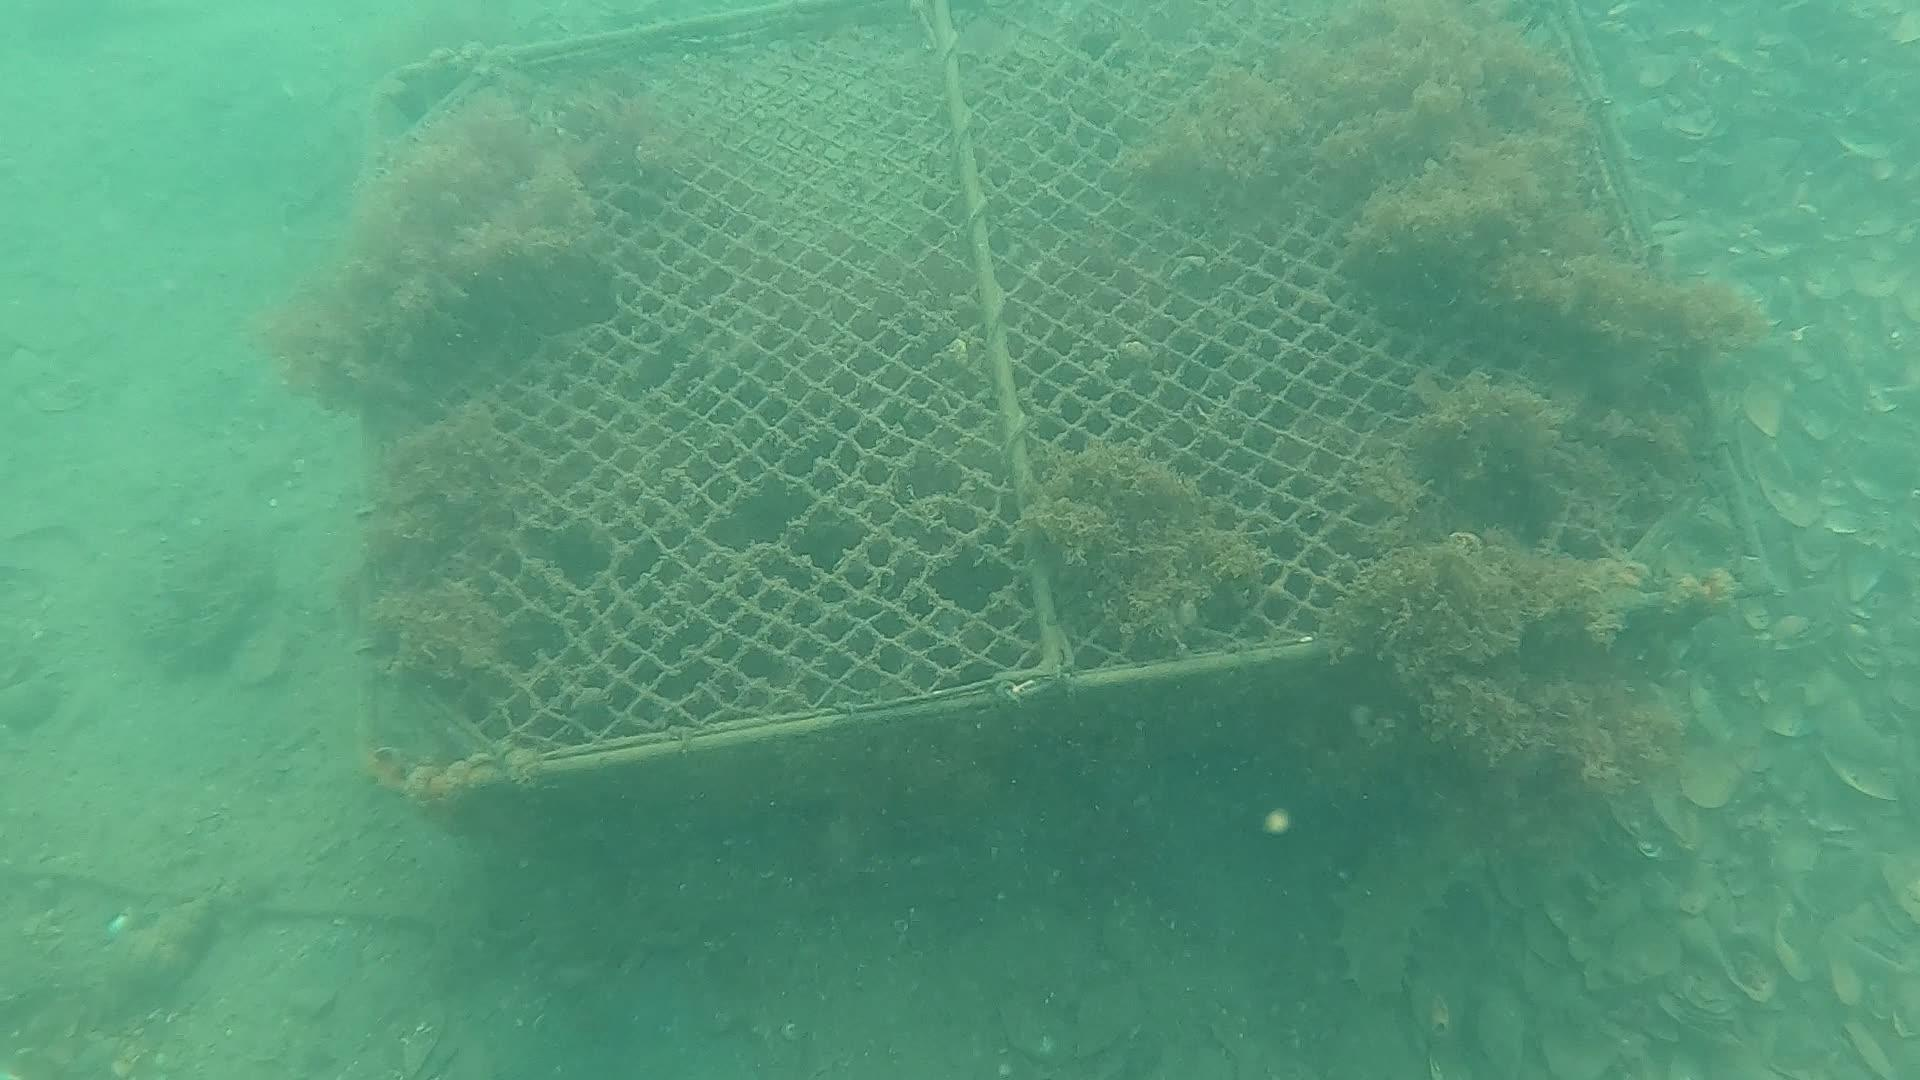rectangular fish trap: (361, 0, 1782, 843)
